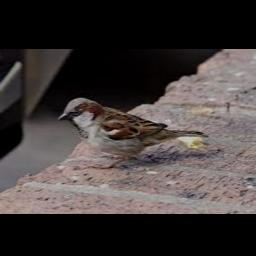Sparrow: (57, 97, 208, 168)
